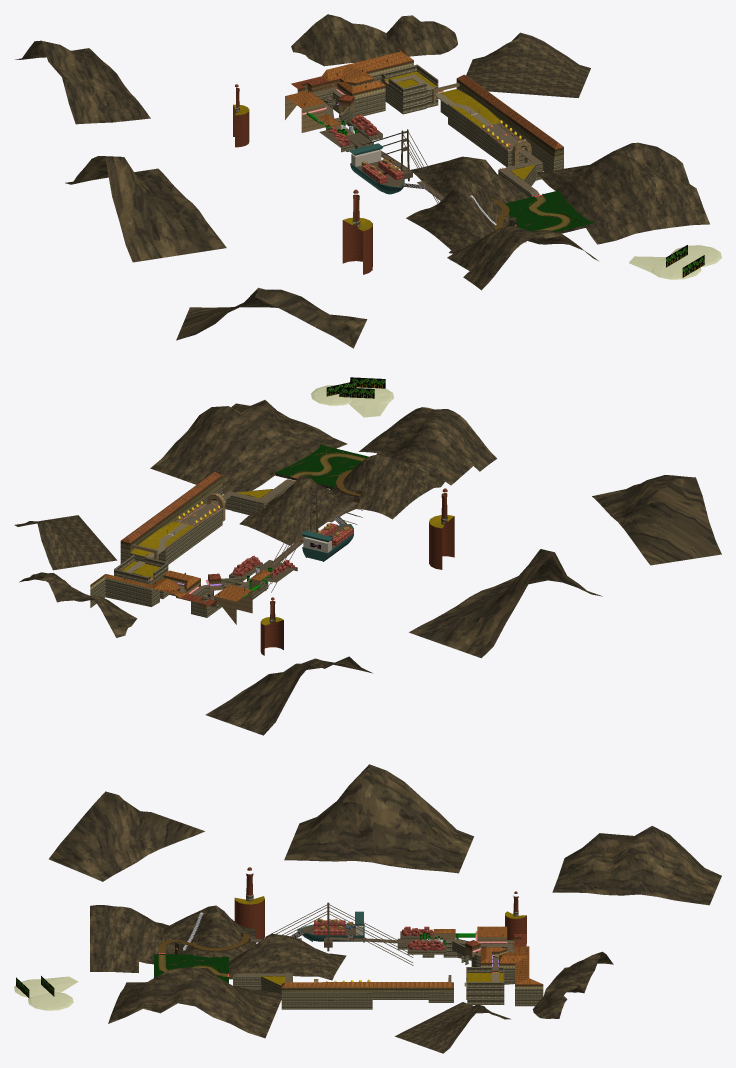
3 views of the same model, one above another, from view 1: azimuth 30°, elevation 25°; view 2: azimuth 150°, elevation 25°; view 3: azimuth 270°, elevation 25° (orthographic). The views are drawn at different scales.
Visible parts, largest first — view 1: iwa.003, wall.010, tiles01, lighthouse, grass02, concrete.002, grass.021, mtwRoad, suna, house_bricks_2, mtwHouse01, tiles03 (+5 smaller); view 2: iwa.003, wall.010, lighthouse, grass02, tiles01, grass.021, concrete.002, mtwRoad, suna, house_bricks_2, pa_arbre, mtwHouse01 (+3 smaller); view 3: iwa.003, wall.010, tiles01, concrete.002, lighthouse, suna, grass02, toad1, mtwHouse01, mtwRoad, grass.021, cargo.
Part boxes in pixels (x1=…): iwa.003: x1=15, y1=14, x2=709, y2=348; wall.010: x1=236, y1=65, x2=563, y2=227; tiles01: x1=285, y1=49, x2=544, y2=132; lighthouse: x1=233, y1=87, x2=372, y2=274; grass02: x1=505, y1=190, x2=594, y2=231; concrete.002: x1=312, y1=71, x2=535, y2=242; grass.021: x1=233, y1=71, x2=535, y2=231; mtwRoad: x1=305, y1=64, x2=542, y2=195; suna: x1=629, y1=245, x2=721, y2=279; house_bricks_2: x1=285, y1=84, x2=531, y2=165; mtwHouse01: x1=456, y1=78, x2=563, y2=159; tiles03: x1=457, y1=75, x2=563, y2=148; iwa.003: x1=14, y1=400, x2=721, y2=735; wall.010: x1=90, y1=481, x2=447, y2=623; lighthouse: x1=260, y1=493, x2=454, y2=655; grass02: x1=275, y1=445, x2=368, y2=487; tiles01: x1=92, y1=481, x2=271, y2=601; grass.021: x1=122, y1=489, x2=454, y2=625; concrete.002: x1=119, y1=489, x2=362, y2=592; mtwRoad: x1=114, y1=479, x2=294, y2=606; suna: x1=311, y1=385, x2=393, y2=417; house_bricks_2: x1=131, y1=493, x2=272, y2=624; pa_arbre: x1=177, y1=377, x2=385, y2=585; mtwHouse01: x1=120, y1=475, x2=222, y2=552; iwa.003: x1=49, y1=764, x2=721, y2=1053; wall.010: x1=233, y1=894, x2=543, y2=1009; tiles01: x1=282, y1=926, x2=542, y2=987; concrete.002: x1=169, y1=902, x2=513, y2=985; lighthouse: x1=234, y1=873, x2=526, y2=943; suna: x1=14, y1=976, x2=78, y2=1010; grass02: x1=154, y1=954, x2=228, y2=983; toad1: x1=314, y1=920, x2=444, y2=950; mtwHouse01: x1=281, y1=987, x2=453, y2=992; mtwRoad: x1=233, y1=939, x2=514, y2=982; grass.021: x1=235, y1=896, x2=526, y2=985; cargo: x1=297, y1=911, x2=364, y2=942.
Size of what is drawn, in the model's own units: 317661 by 55225 by 379021.
Materials: 44 (44 with a texture image).
